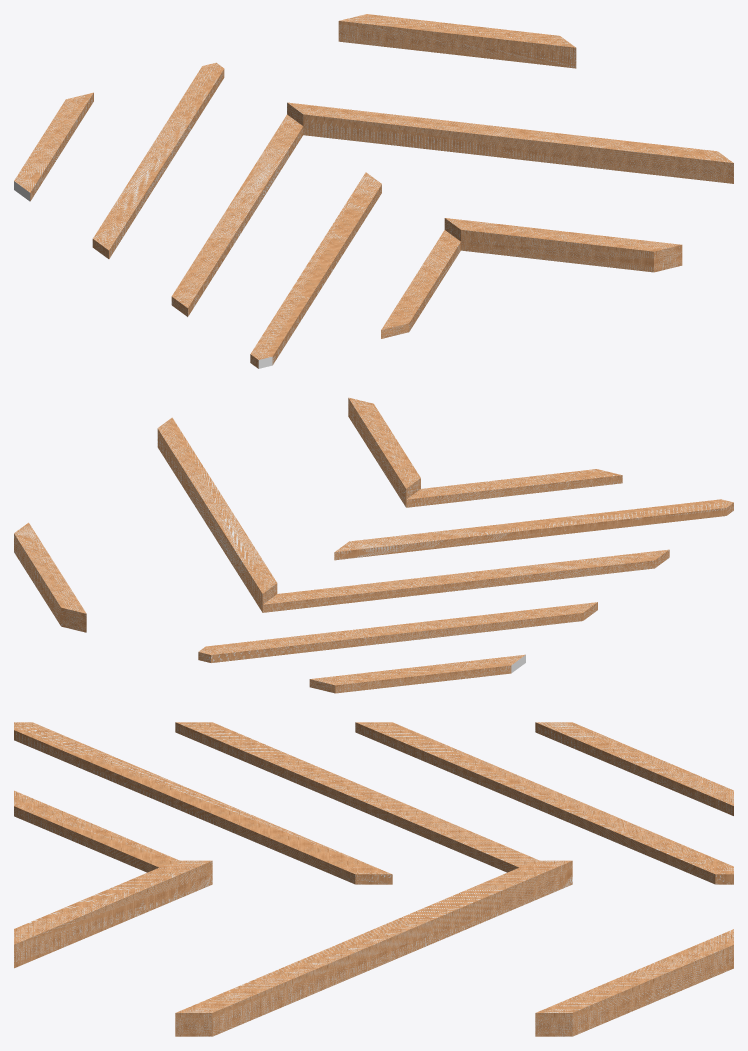
File: wood_slats.dae
3 renders of one model, top to bottom at view 1: azimuth 30°, elevation 25°; view 2: azimuth 150°, elevation 25°; view 3: azimuth 270°, elevation 25°, orthographic. The views are drawn at different scales.
Parts seen in each view (by area): view 1: SketchUp (×6); view 2: SketchUp (×6); view 3: SketchUp (×6).
Part boxes in pixels (x1,y1,x2,y2): SketchUp (×6): (14, 14, 733, 368); SketchUp (×6): (14, 397, 733, 693); SketchUp (×6): (14, 722, 733, 1036).
Size of the model in its own units: 96 by 96 by 3.5.
Materials: 2 (1 with a texture image).
